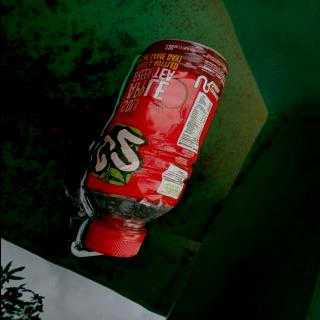bottle: (78, 38, 231, 260)
